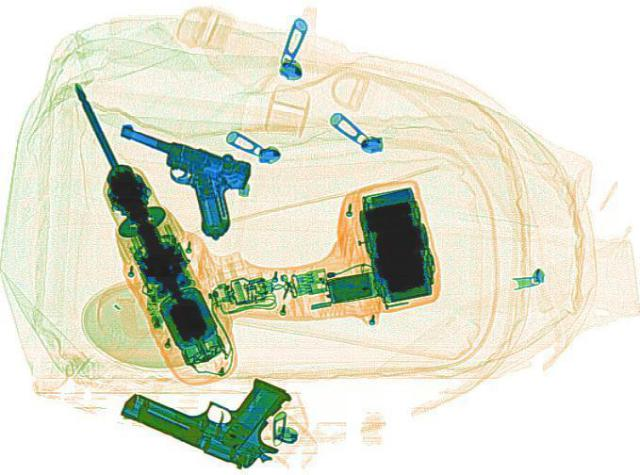Gun: (110, 344, 314, 471), (73, 121, 269, 240)
